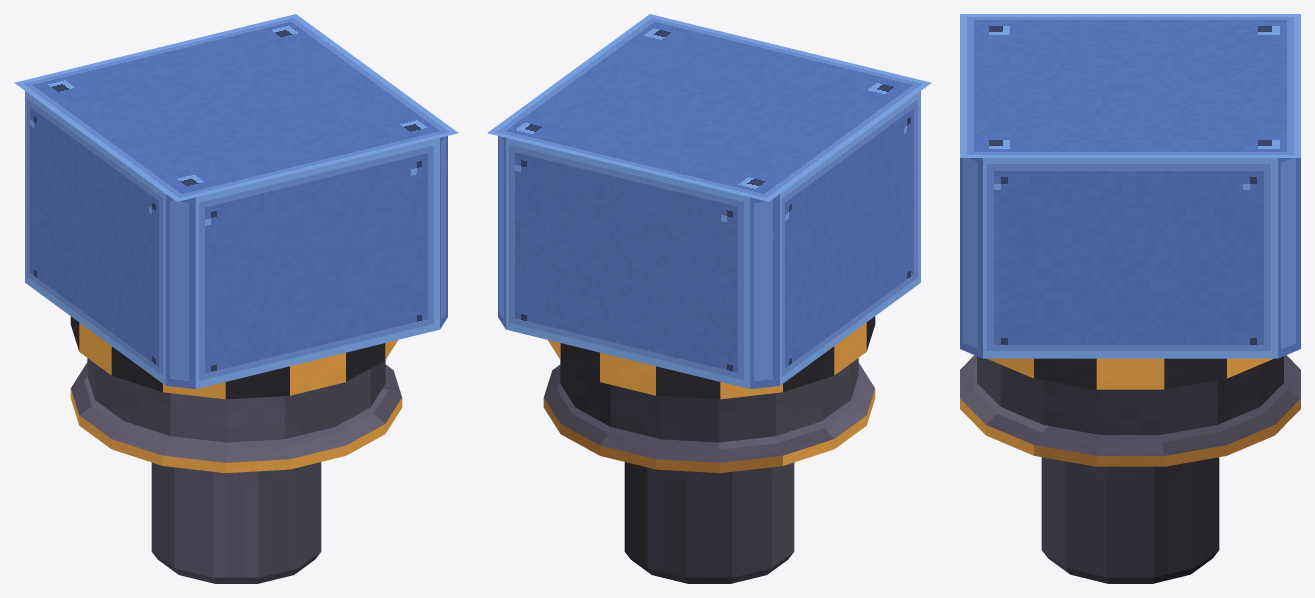
File: support.glb
The picture shows the model from 3 angles, left to right: view 1: azimuth 30°, elevation 25°; view 2: azimuth 150°, elevation 25°; view 3: azimuth 270°, elevation 25°; orthographic projection. The views are drawn at different scales.
Visible parts, largest first — view 1: support_body, support_sleeve, support_foot; view 2: support_body, support_sleeve, support_foot; view 3: support_body, support_sleeve, support_foot.
Boxes of the visible parts, <box> form: support_body: <box>14,14,458,442</box>; support_sleeve: <box>151,462,321,583</box>; support_foot: <box>70,362,402,473</box>; support_body: <box>487,14,931,442</box>; support_sleeve: <box>624,462,794,583</box>; support_foot: <box>543,362,875,473</box>; support_body: <box>960,14,1300,434</box>; support_sleeve: <box>1041,457,1219,583</box>; support_foot: <box>960,355,1300,466</box>.
Bounding box in the file's own units: 1 × 1.5 × 1.
1 material, 1 textured.
